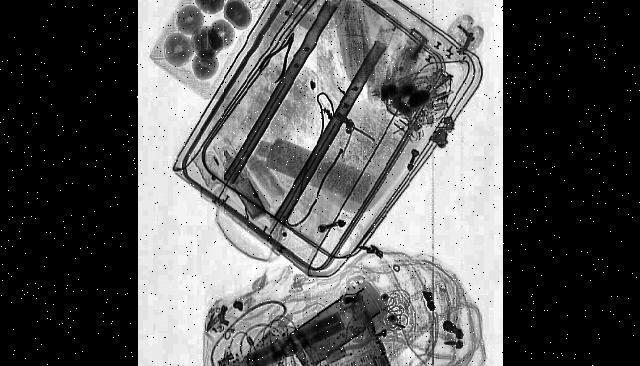Pliers: (260, 20, 298, 96)
